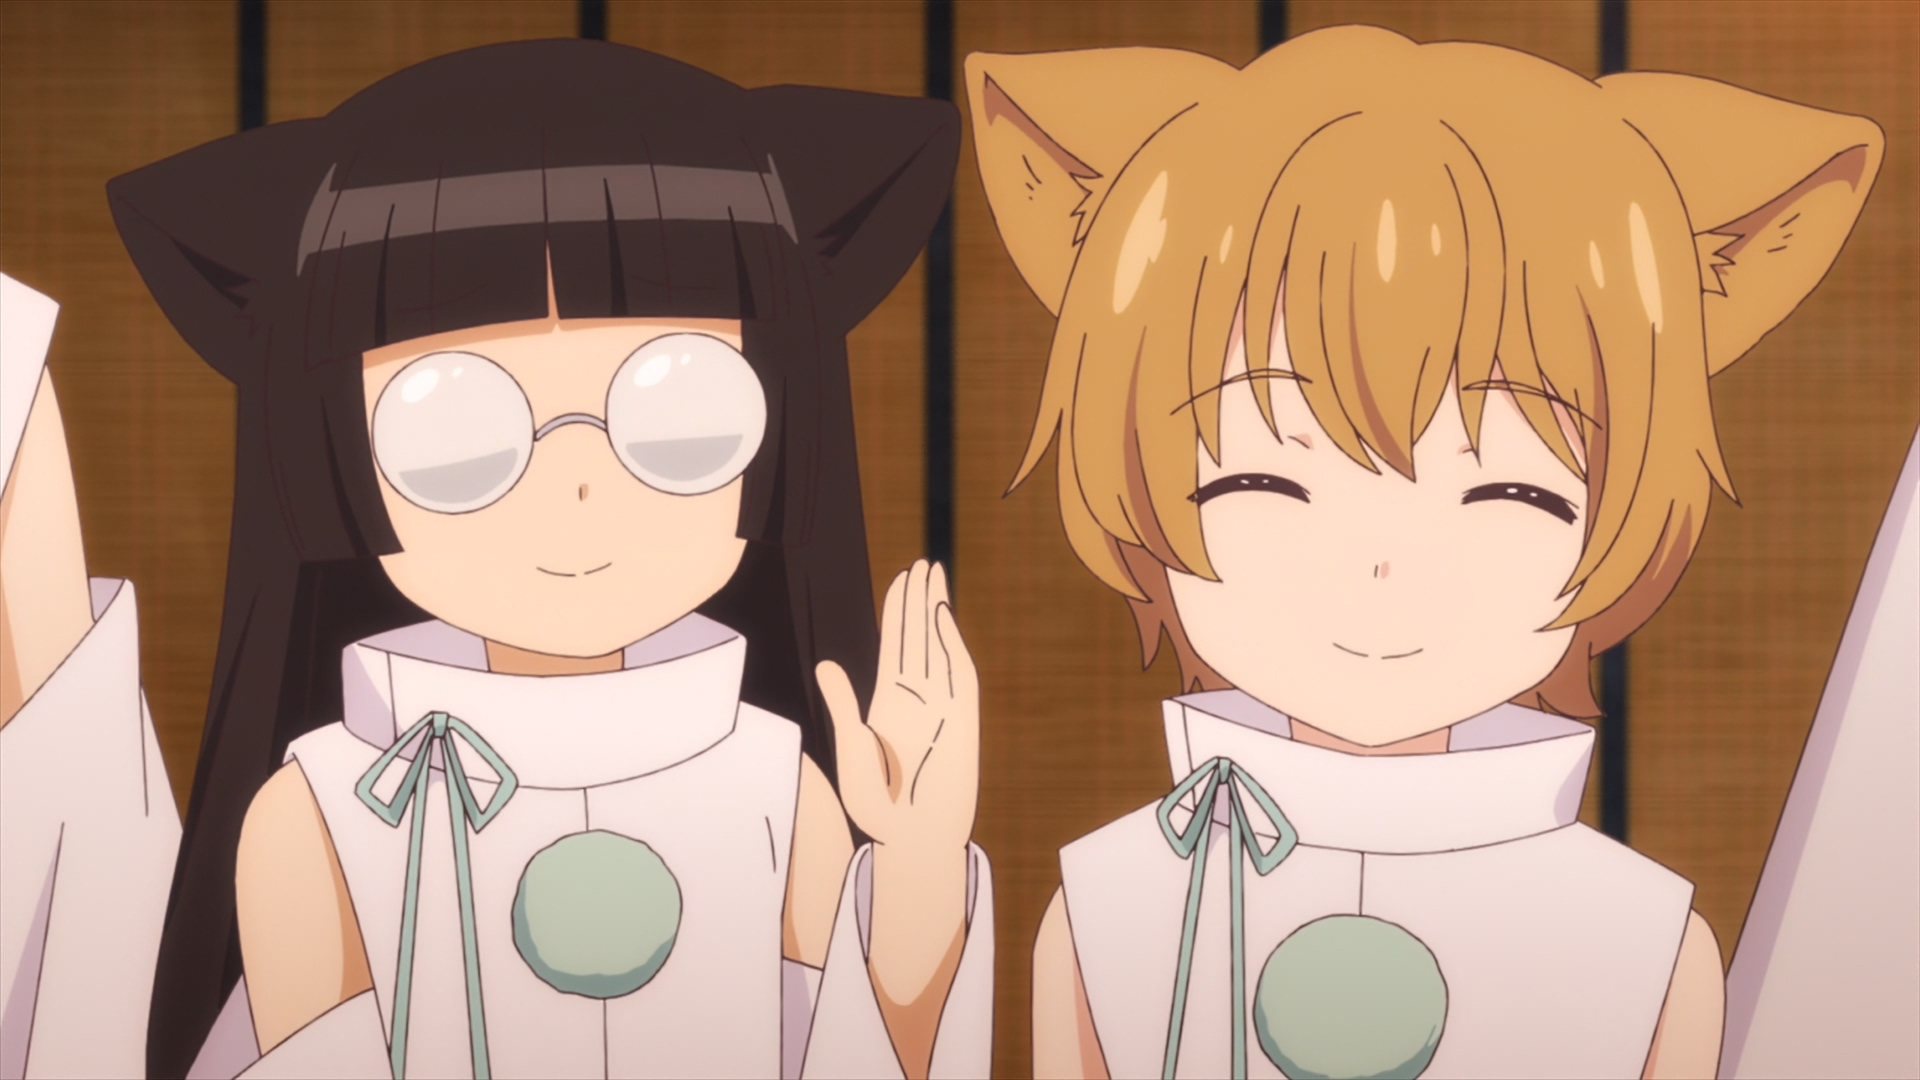其他: (965, 22, 1887, 1080), (108, 38, 996, 1080)
